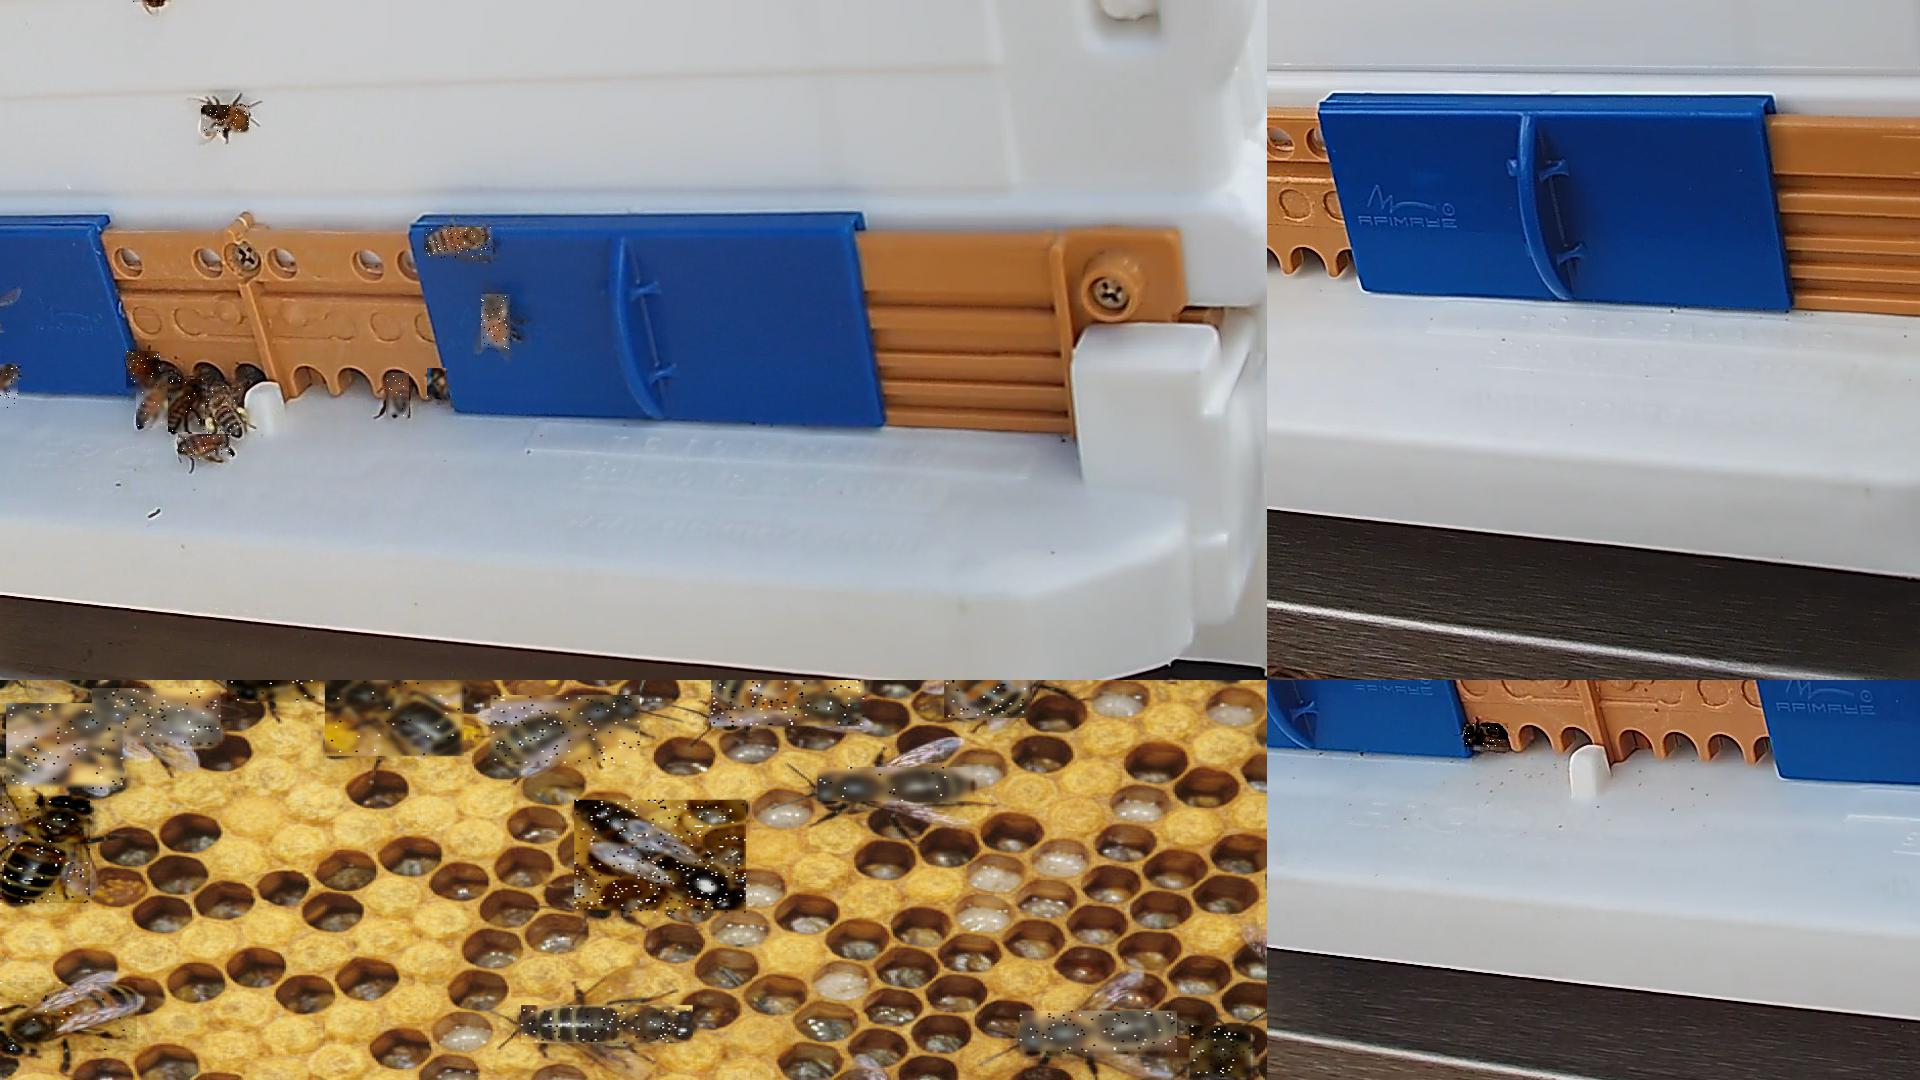bee: (324, 680, 465, 758), (491, 696, 641, 766), (7, 704, 125, 791), (0, 795, 92, 906), (0, 982, 138, 1052), (92, 688, 223, 746), (711, 680, 866, 728), (1019, 1011, 1179, 1055), (522, 1005, 695, 1044), (819, 767, 976, 803), (944, 680, 1033, 720), (1189, 1026, 1253, 1079), (425, 228, 495, 260), (227, 680, 320, 703), (169, 378, 206, 433), (481, 295, 512, 351), (202, 105, 251, 137), (127, 352, 162, 392), (179, 435, 233, 460), (1464, 724, 1509, 750), (386, 375, 410, 418), (0, 364, 20, 410)
pollenbee: (136, 377, 179, 429), (206, 386, 245, 436), (427, 369, 451, 400)
queen: (575, 800, 748, 916)
